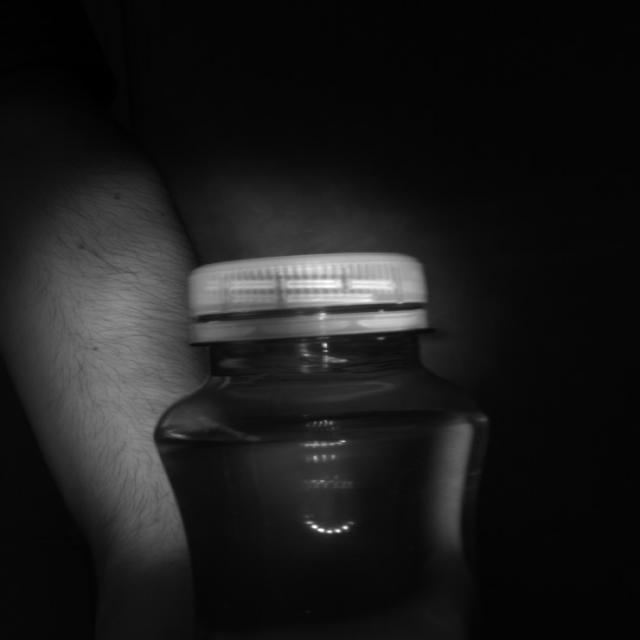Not Good: (190, 252, 426, 344)
